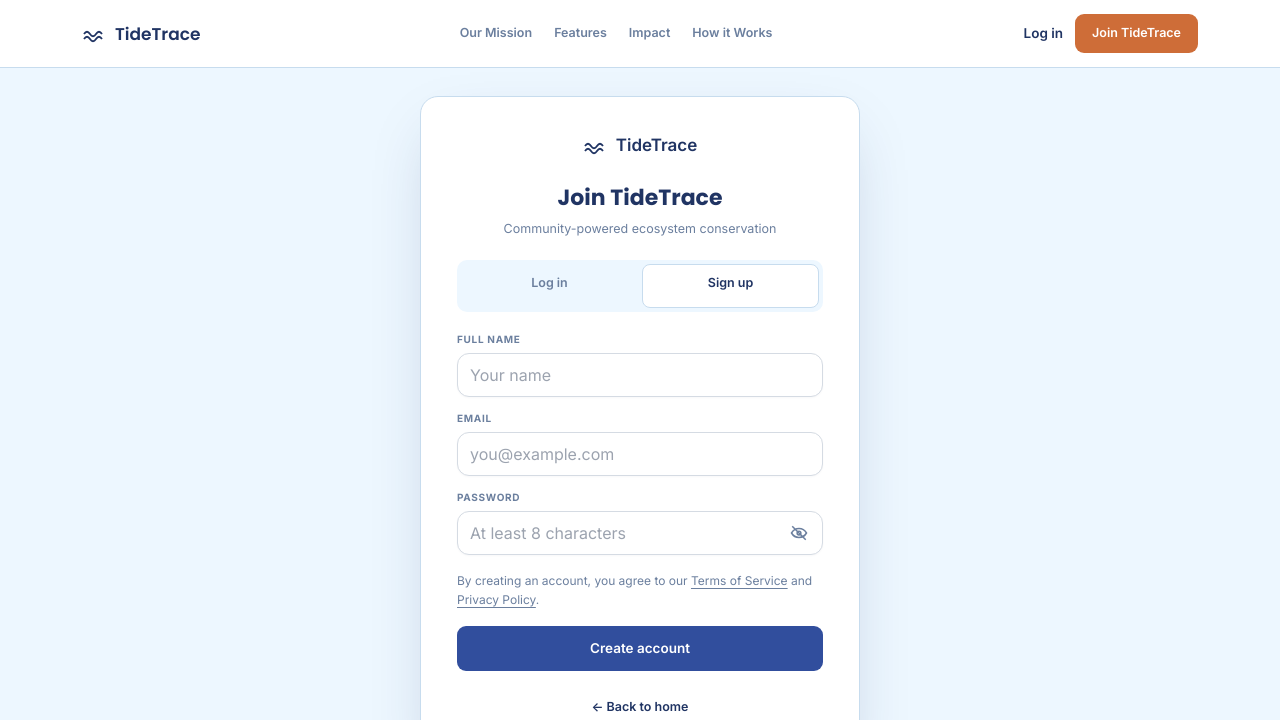
Test case: backend authentication › shows inline email validation on /register and clears it after correction
Type "Test Member" into the field labelled "Full name" at (640, 375), box x1=457 y1=353 x2=823 y2=397
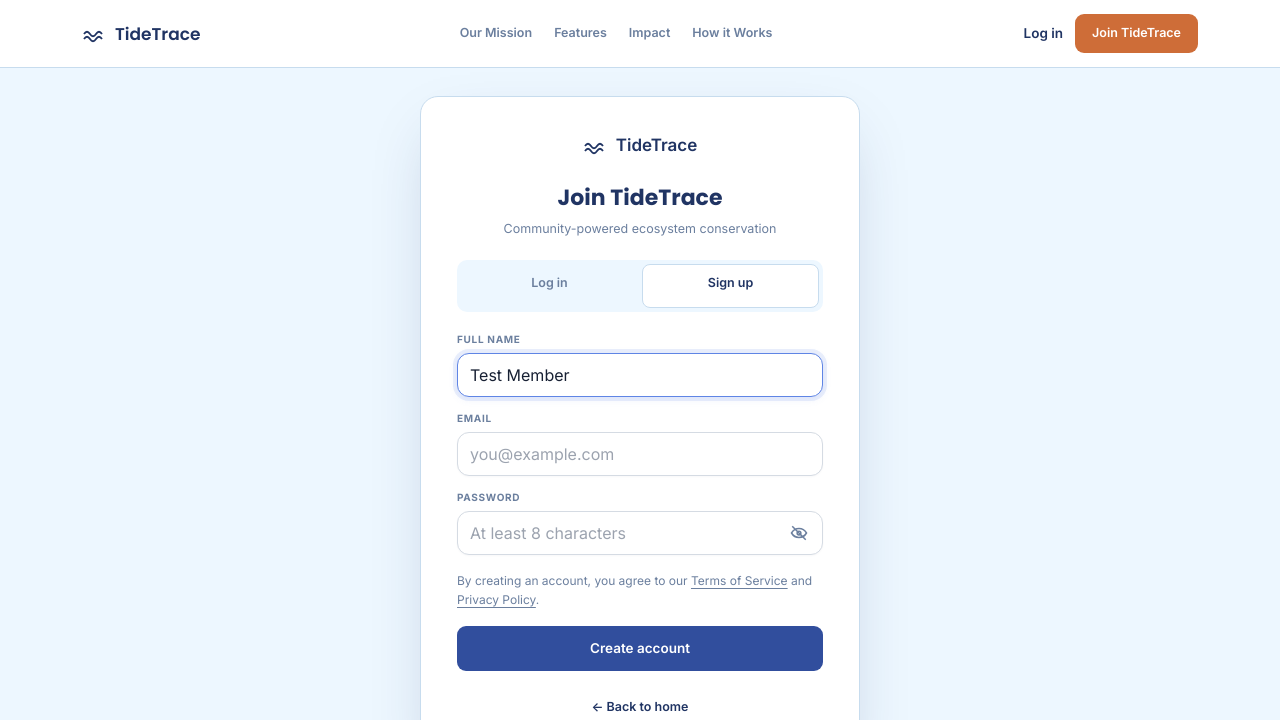
Type "saas" into the field labelled "Email" at (640, 454), box x1=457 y1=432 x2=823 y2=476
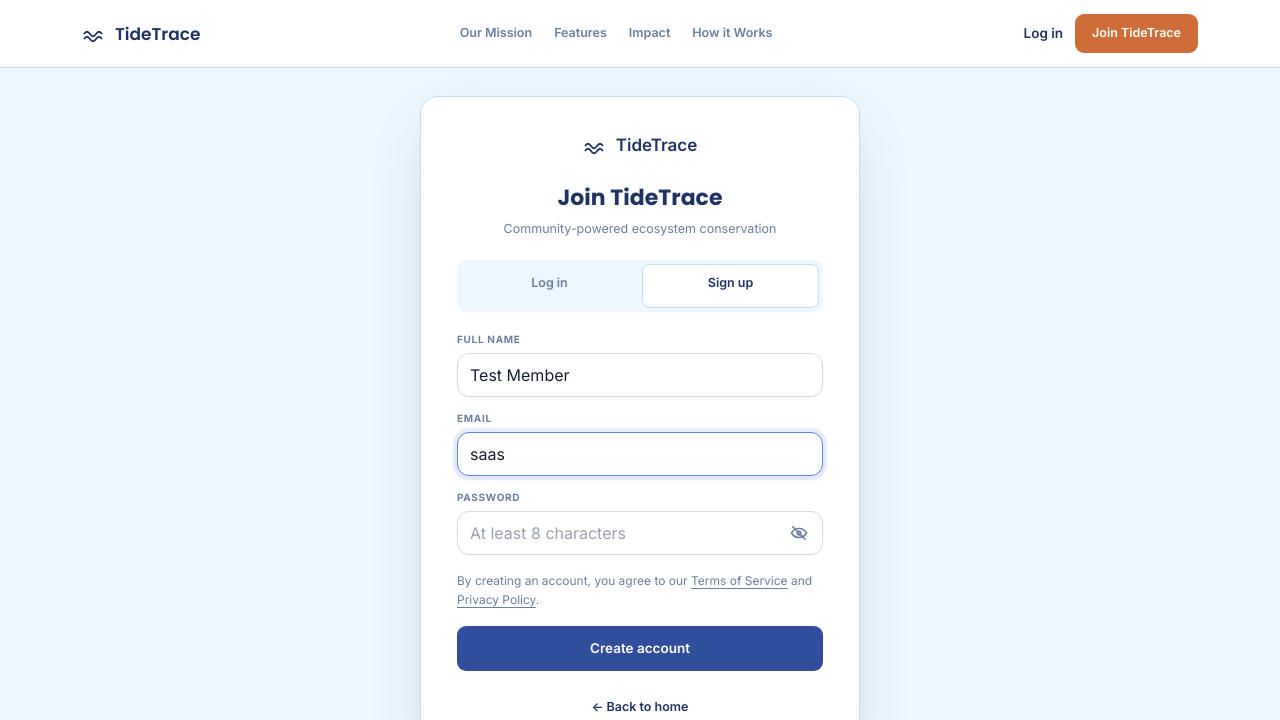
Type "correct-password" into the password field labelled "Password" at (640, 533), box x1=457 y1=511 x2=823 y2=555
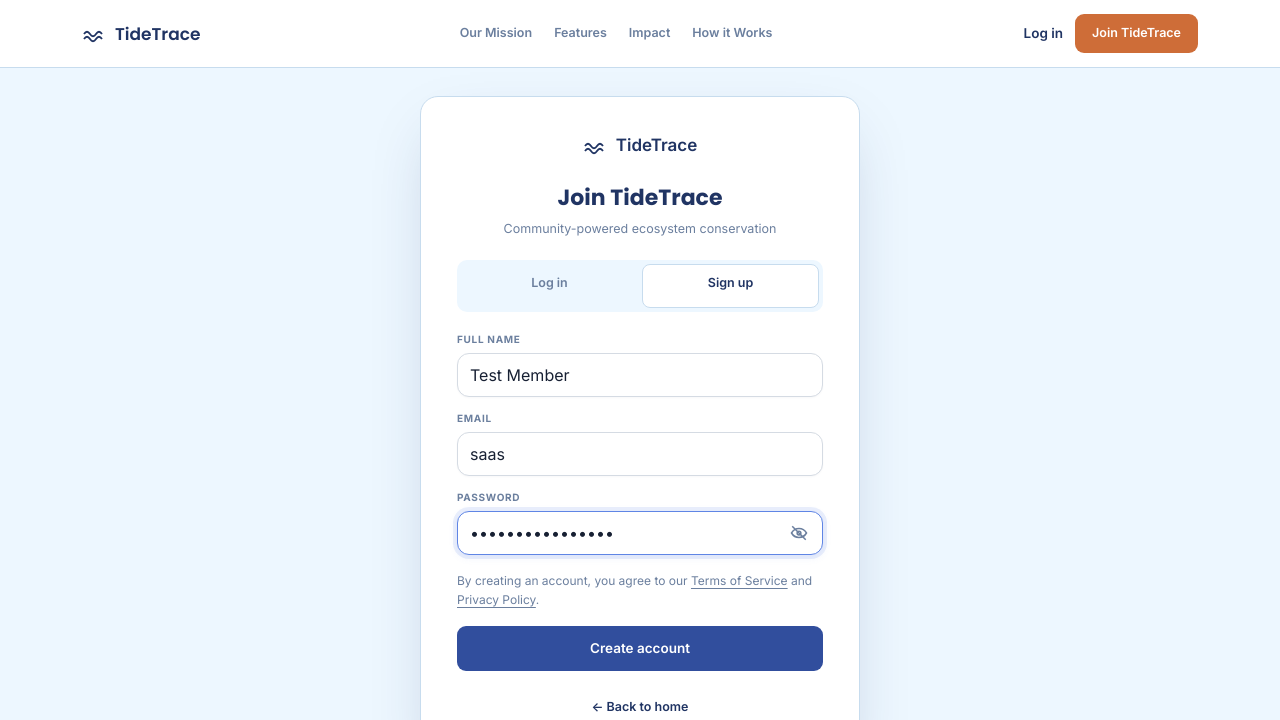
Click the button "Create account" at (640, 648), box x1=457 y1=626 x2=823 y2=670
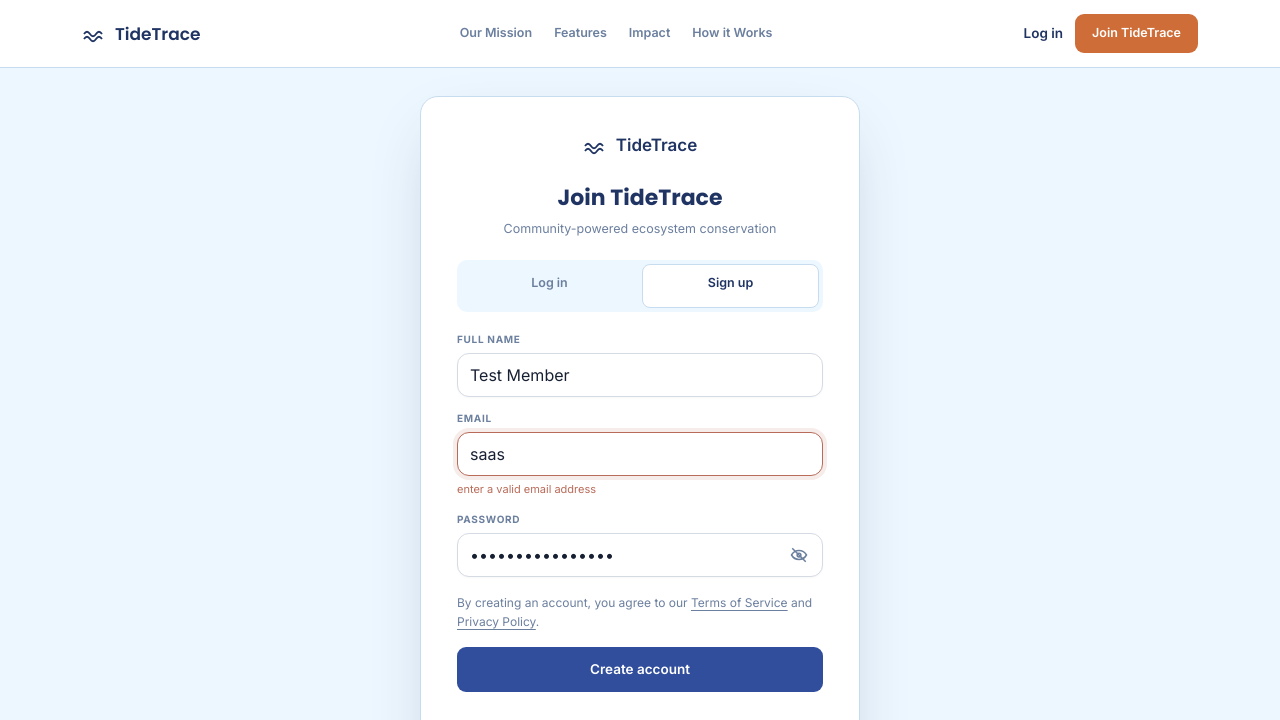
Expected: the message reads "enter a valid email address", x1=457 y1=482 x2=596 y2=496
Replace the text in the field labelled "Email" with "member@example.test" at (640, 454), box x1=457 y1=432 x2=823 y2=476
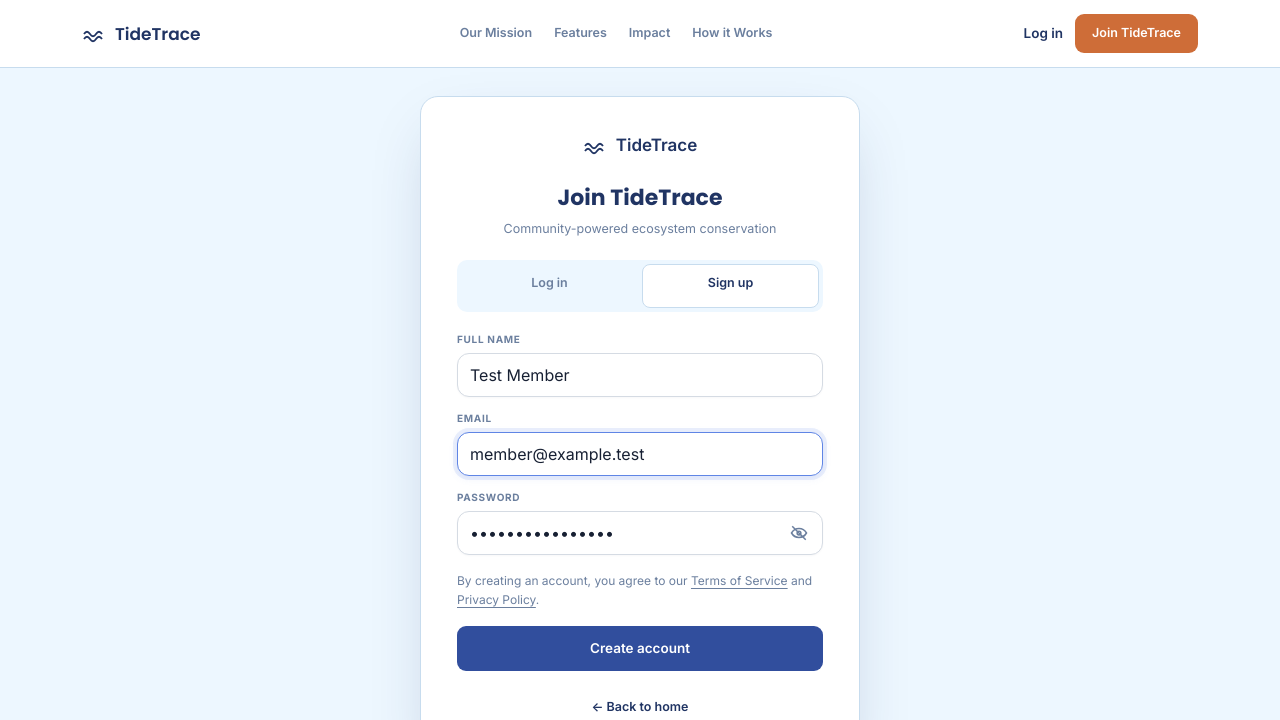
Expected: the message "enter a valid email address" is gone
